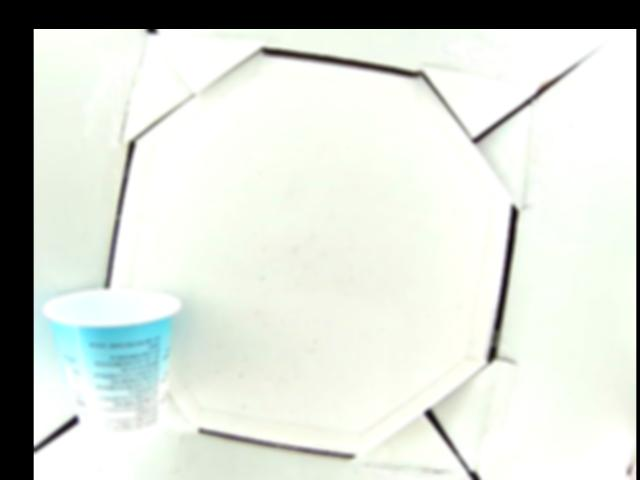Cup: (42, 286, 181, 445)
